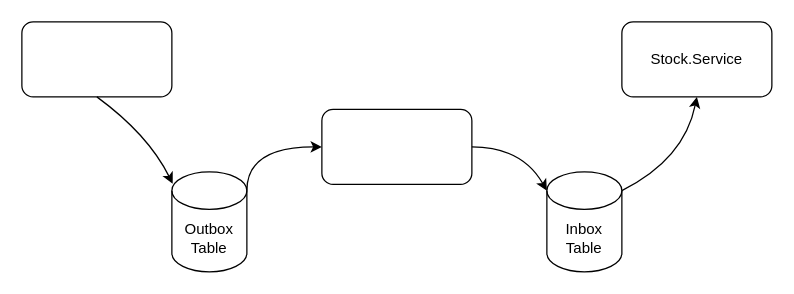
Image size: 794x294. Some labels were removed from this diagram. The shapes that lost their labels are listed below. From the top down, each one's box as (x1, y1, x2, y2) in pixels, then its label:
(21, 21, 172, 97): ORDER.API
(321, 108, 472, 184): Order.OutboxTable Publisher
